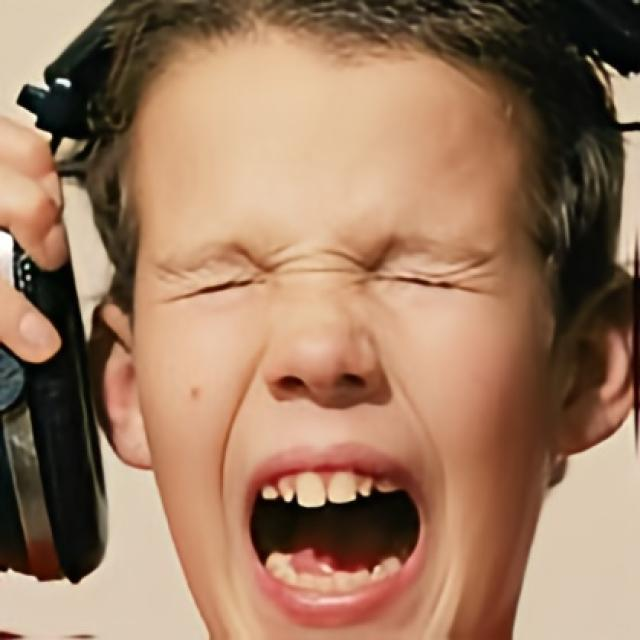anger: (132, 44, 552, 623)
